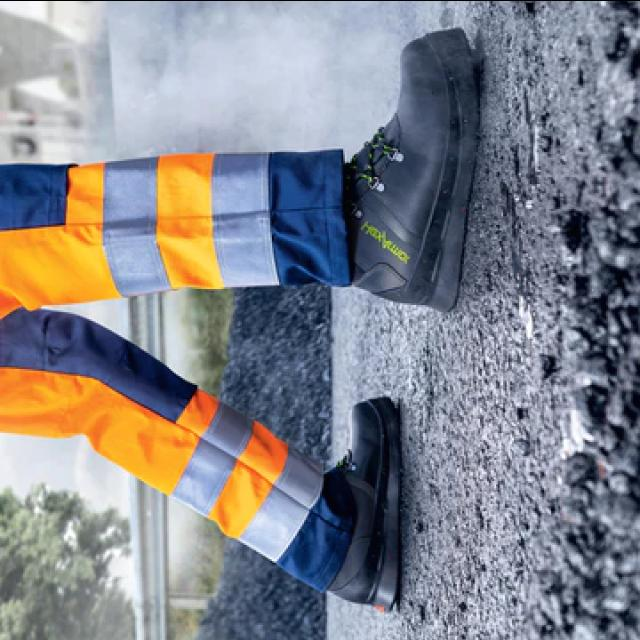Boots: (331, 21, 480, 324), (310, 395, 409, 609)
